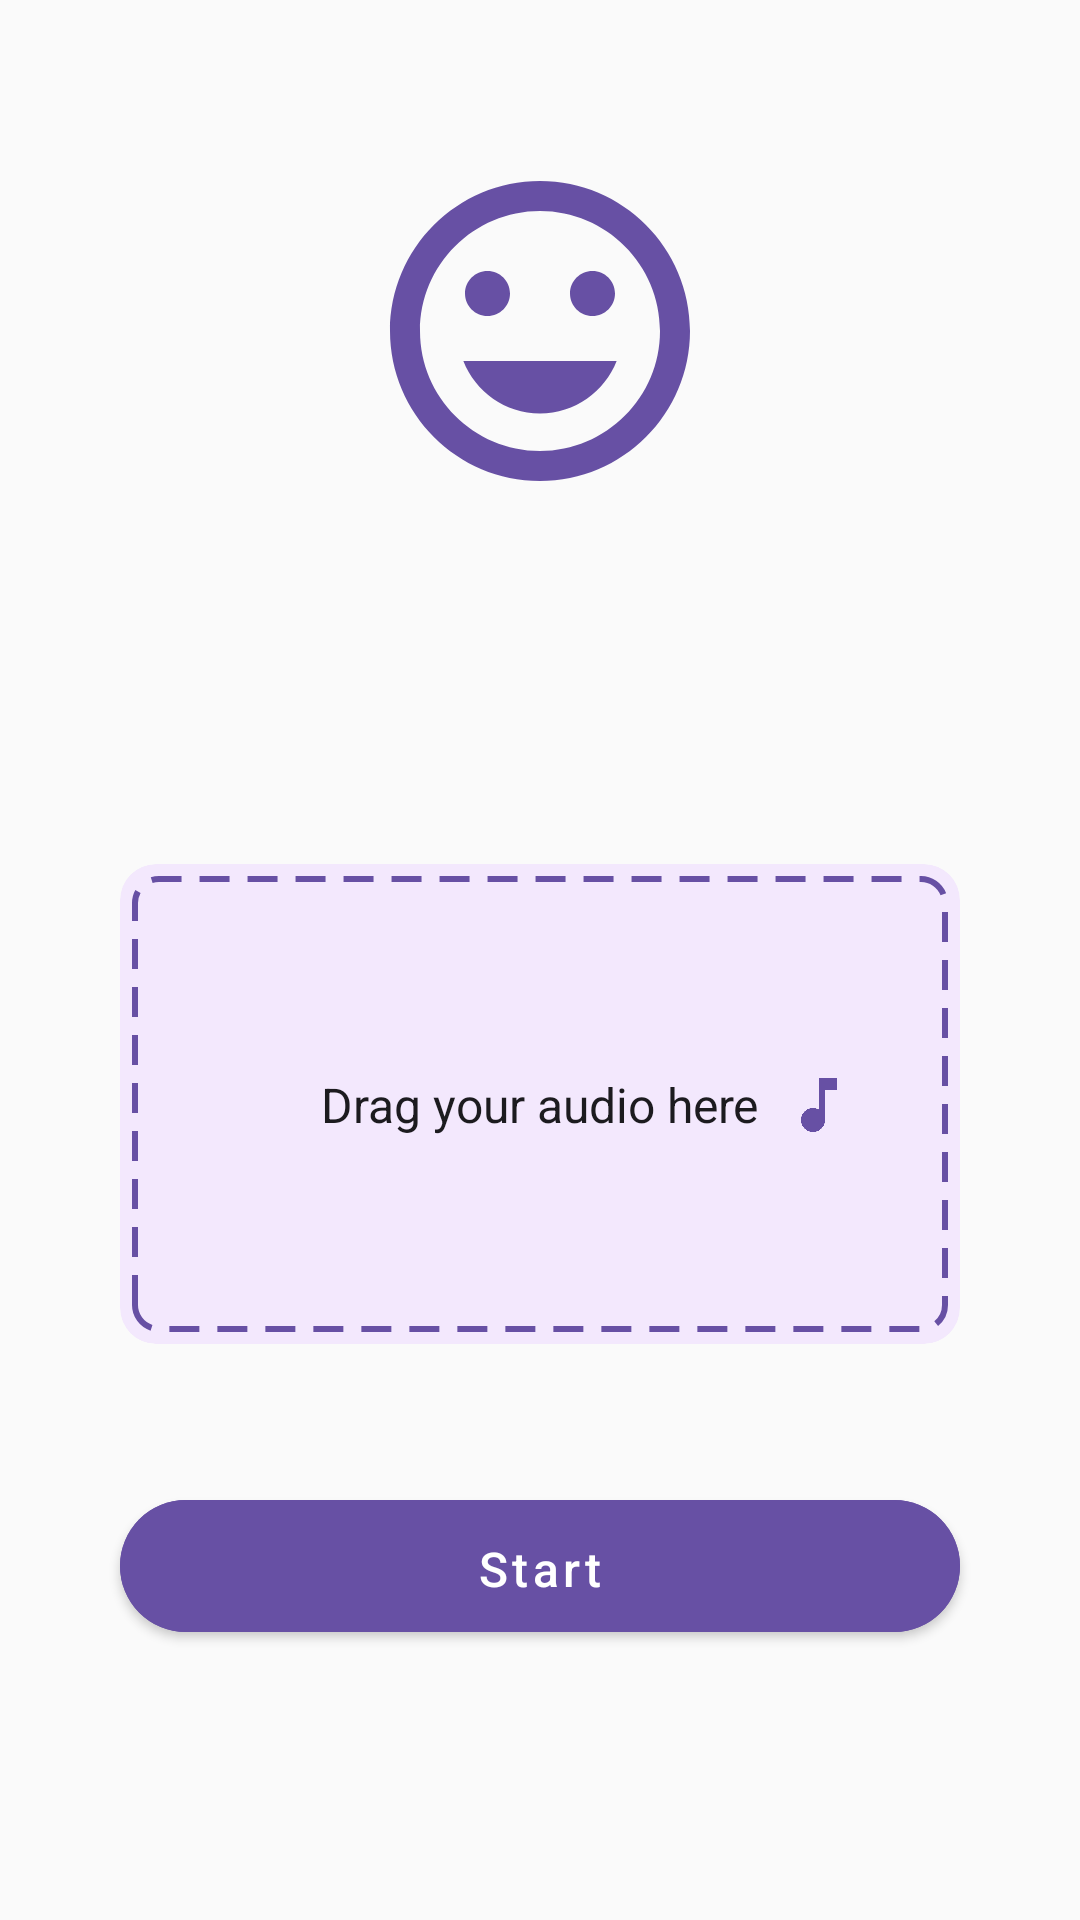

Screen size 1080 × 1920. Icon name, then its center in pixels as [x,y]:
smile: [540,331]
